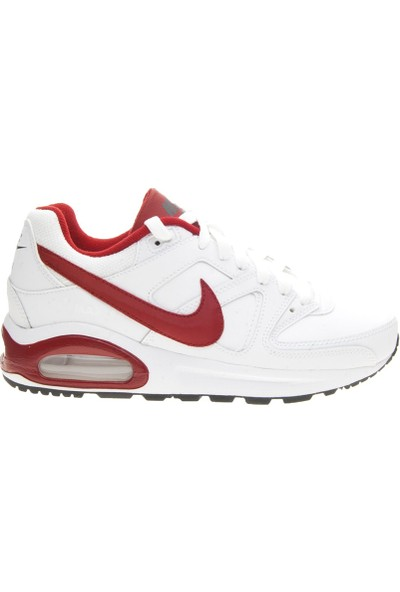nike: (36, 244, 227, 351)
